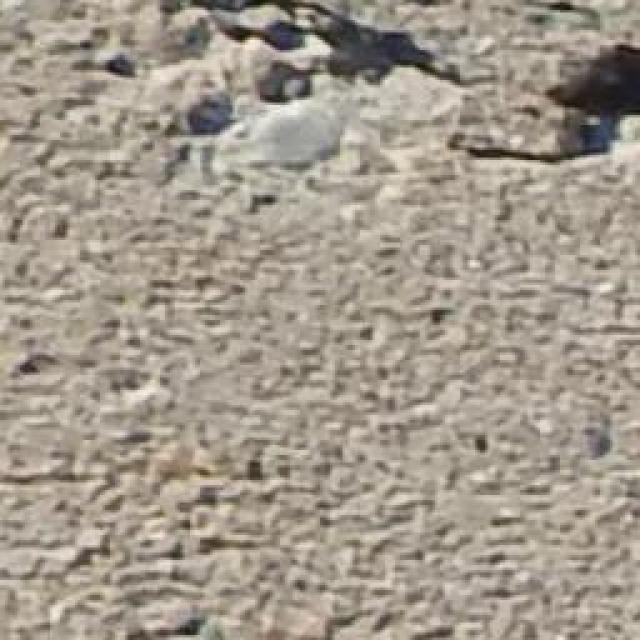concrete-crack: (148, 0, 498, 114), (437, 42, 638, 177)
